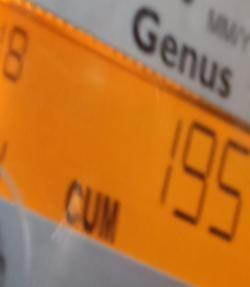2: (149, 114, 186, 213)
6: (209, 136, 249, 244)
:: (170, 121, 226, 226)
